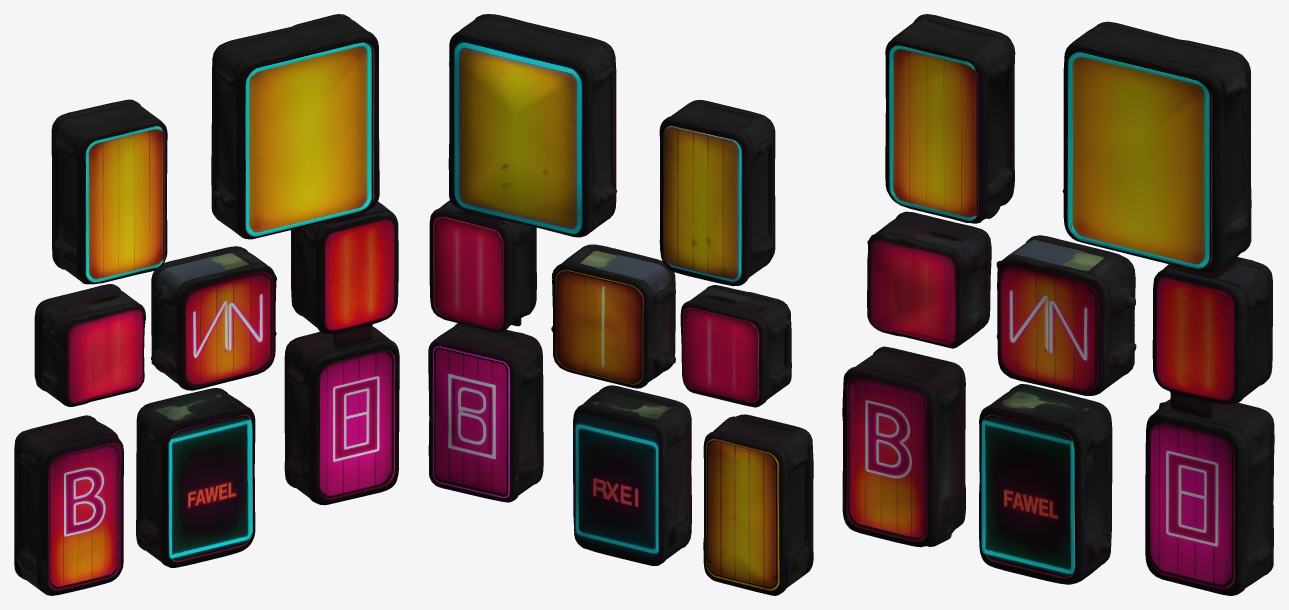
File: ximen_neon_sign_cluster_01.glb
The picture shows the model from 3 angles, left to right: view 1: azimuth 30°, elevation 25°; view 2: azimuth 150°, elevation 25°; view 3: azimuth 330°, elevation 25°; orthographic projection. The views are drawn at different scales.
Bounding box in the file's own units: 1.58 × 2 × 0.2434.
1 material, 1 textured.
